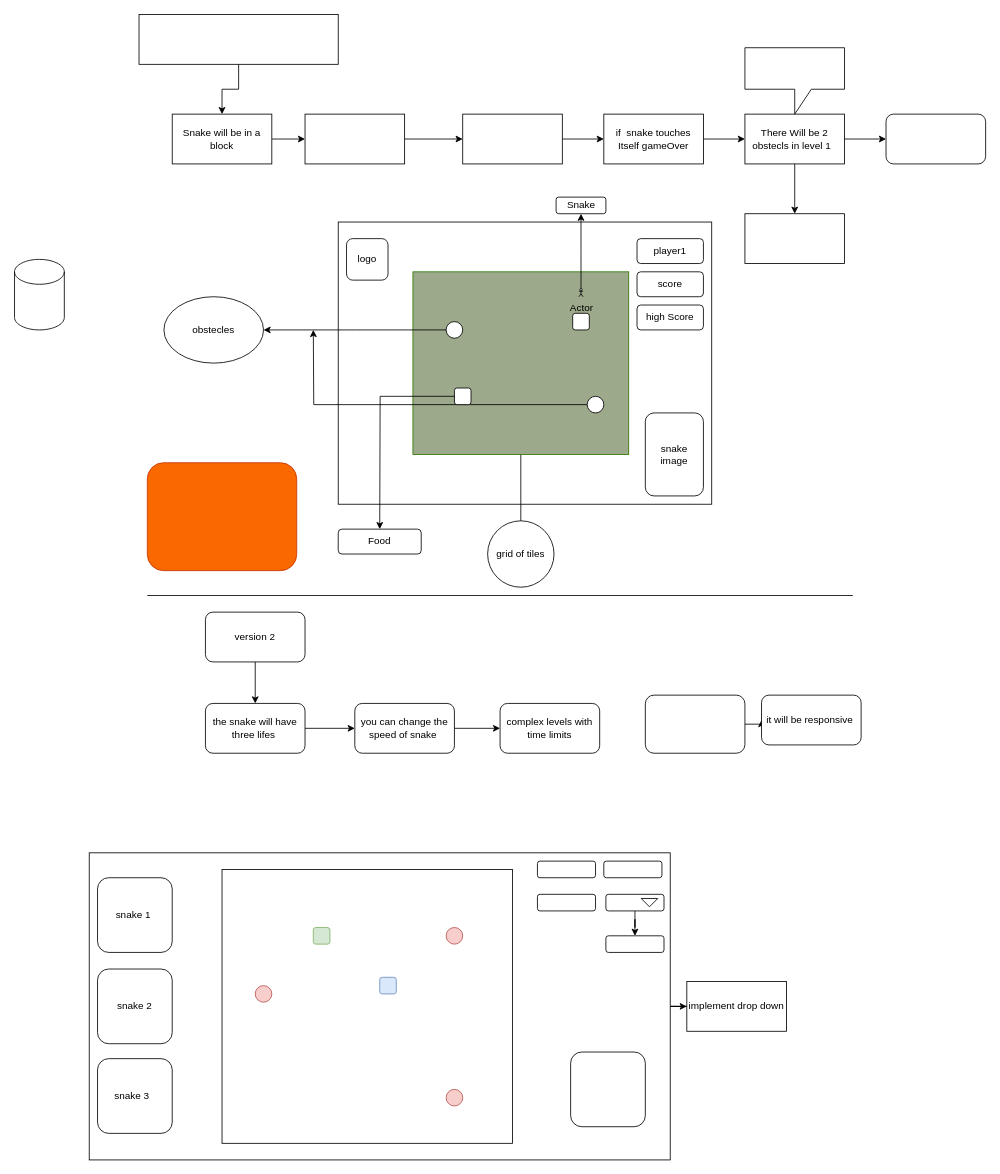
Image size: 1000x1174. Some labels were removed from this diagram. Each missing label, with the box of its shape:
2 soild grid that would return game over if touched: (744, 47, 845, 114)
Css grid request animation frame Fps control Gameloop: (146, 462, 297, 571)
hitting obstacle once will result in unconscious snake and twice in gameover: (644, 694, 745, 753)
if Snake hits border of block then too game over: (744, 213, 845, 264)
it will eat Food and once and grow by one grid: (462, 113, 562, 164)
L!: (14, 259, 64, 330)
level 2: (605, 935, 664, 952)
music on eat move and game over: (885, 113, 986, 164)
My Snake Game L1: (138, 14, 338, 64)
The snake will be moving in a grid left right top down: (304, 113, 405, 164)
